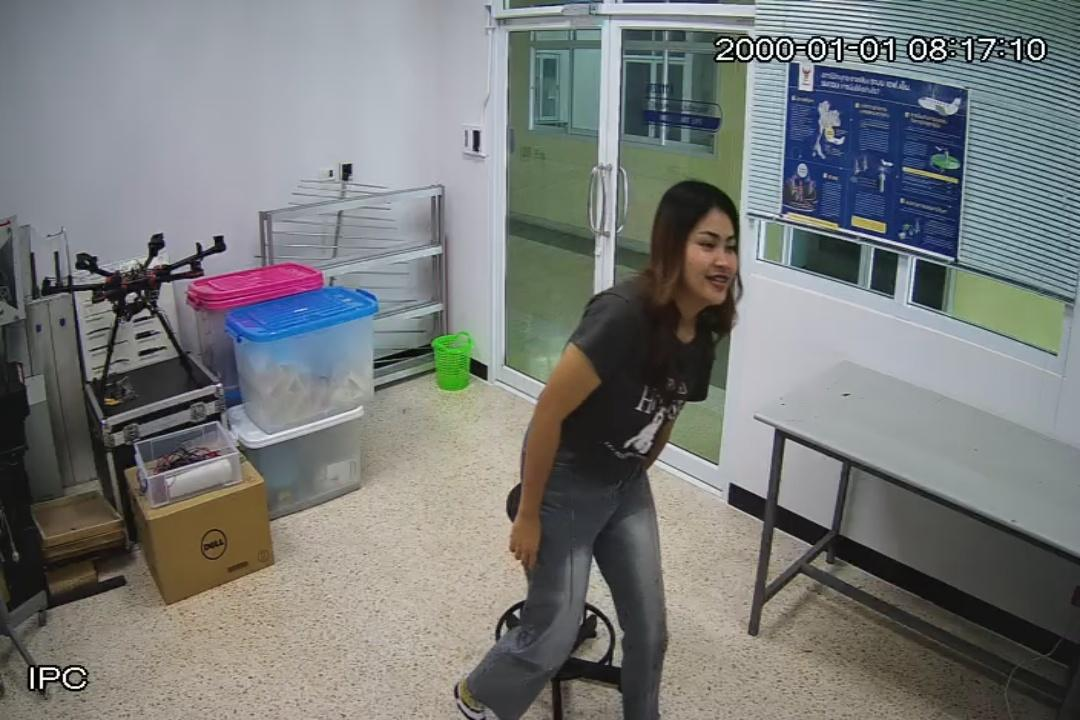normal: (447, 176, 745, 720)
